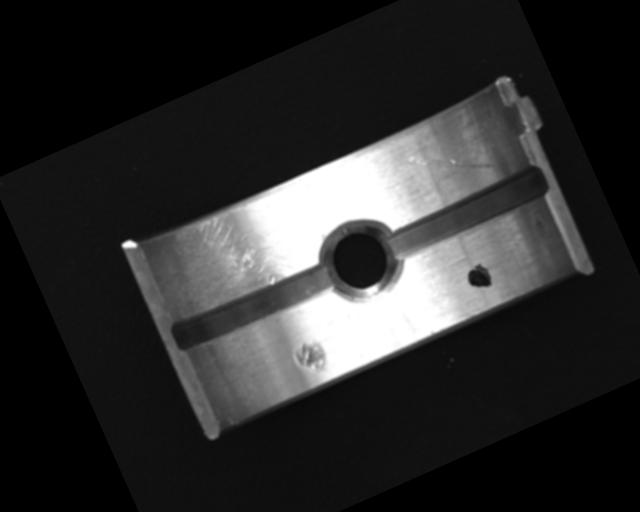blot: (462, 260, 495, 294)
bruise: (291, 336, 333, 381)
gap: (166, 253, 340, 357), (385, 165, 552, 262)
hole: (310, 207, 412, 313)
nick: (405, 125, 496, 199)
scratch: (147, 179, 326, 324)
